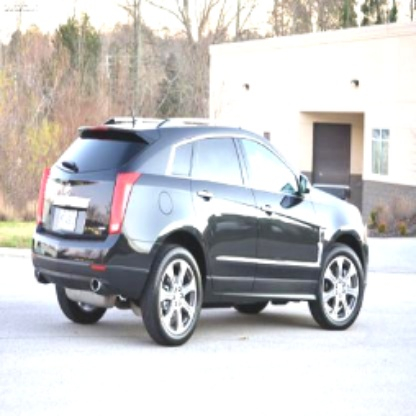Vehicle: (32, 106, 372, 348)
